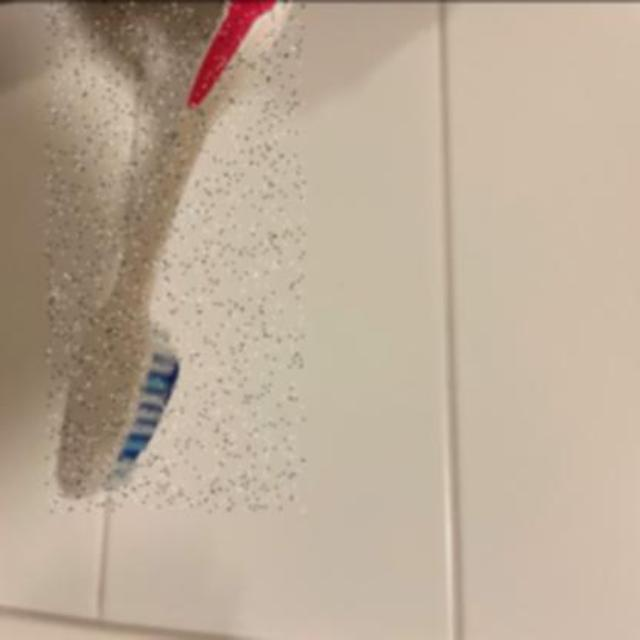toothbrush: (46, 0, 304, 510)
